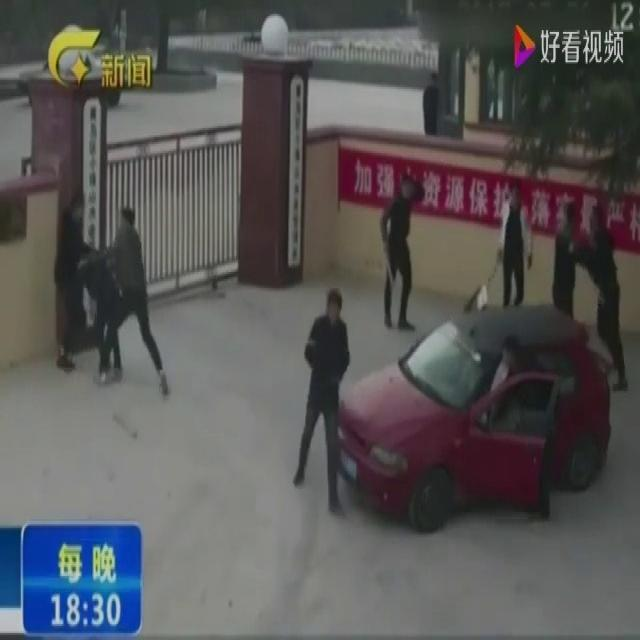fight: (50, 185, 172, 401), (551, 189, 632, 394), (377, 170, 427, 336), (494, 172, 537, 313)
non-fight: (290, 281, 354, 520)
